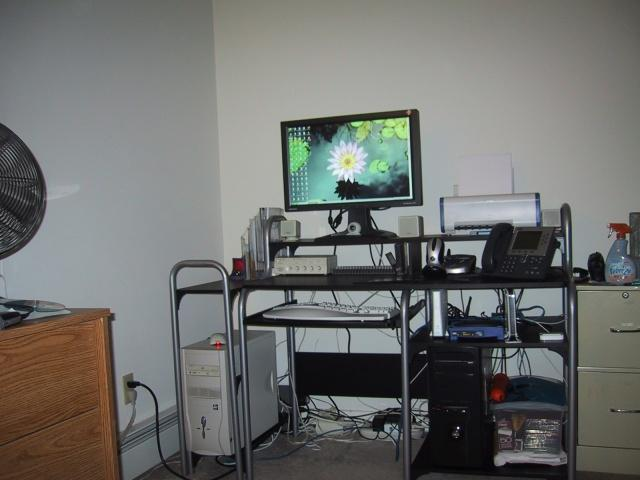AIO PC-Monitor-TV: (279, 107, 424, 237)
Filing Cabinet: (573, 280, 639, 478)
Printer: (437, 184, 541, 232)
